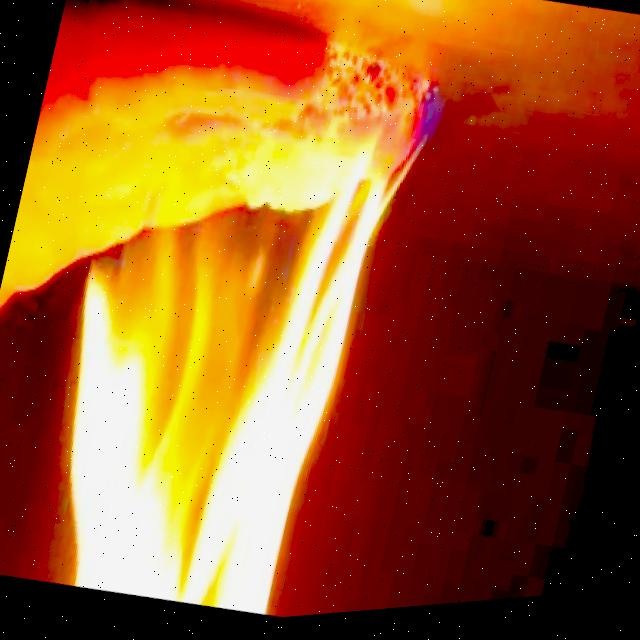Fire: (6, 32, 425, 640)
